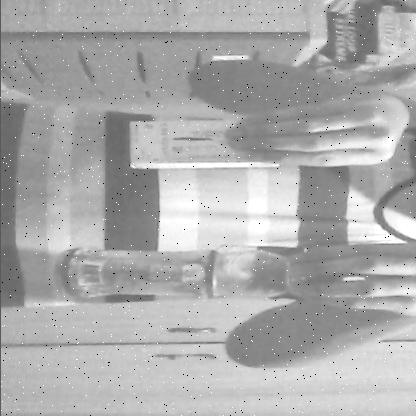Plastic Bottle: (37, 234, 359, 308)
